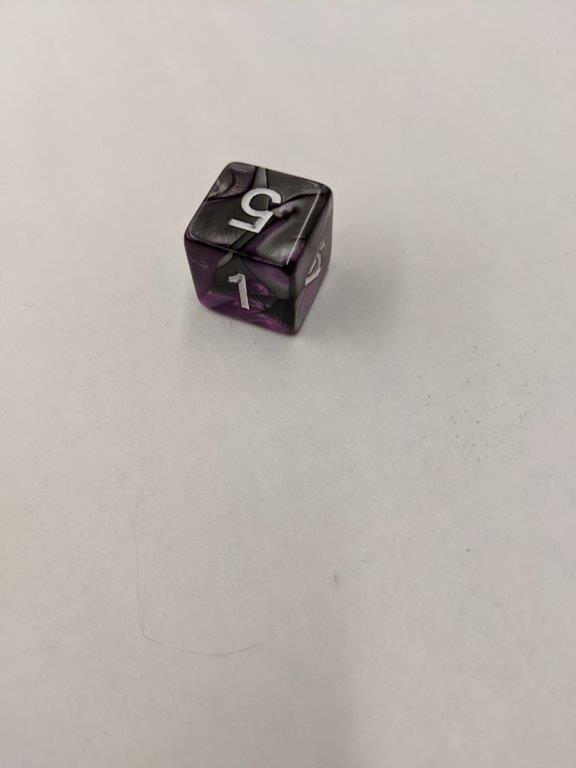d6-5: (183, 162, 333, 334)
